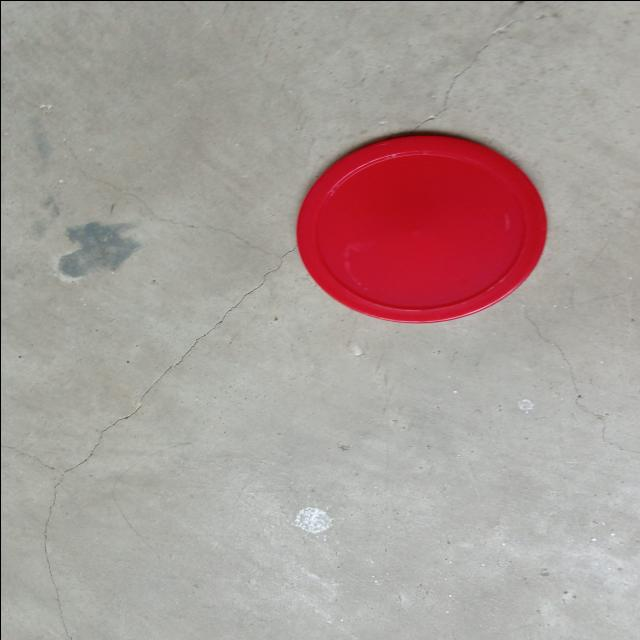chip: (292, 132, 550, 324)
